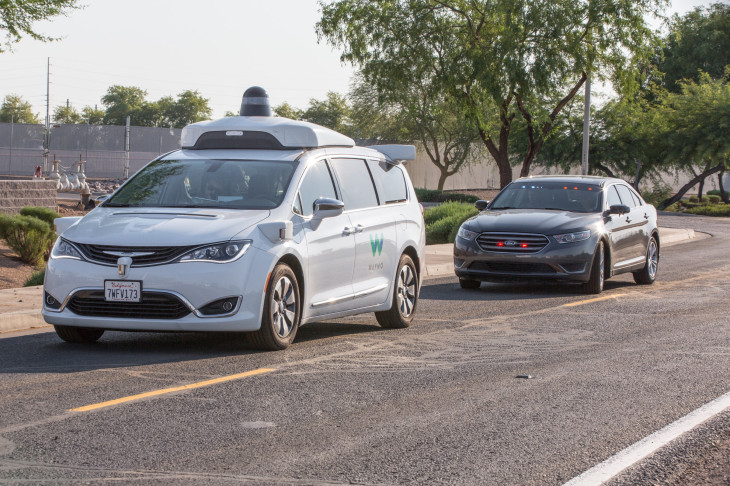car: (32, 98, 433, 326), (446, 169, 664, 299)
